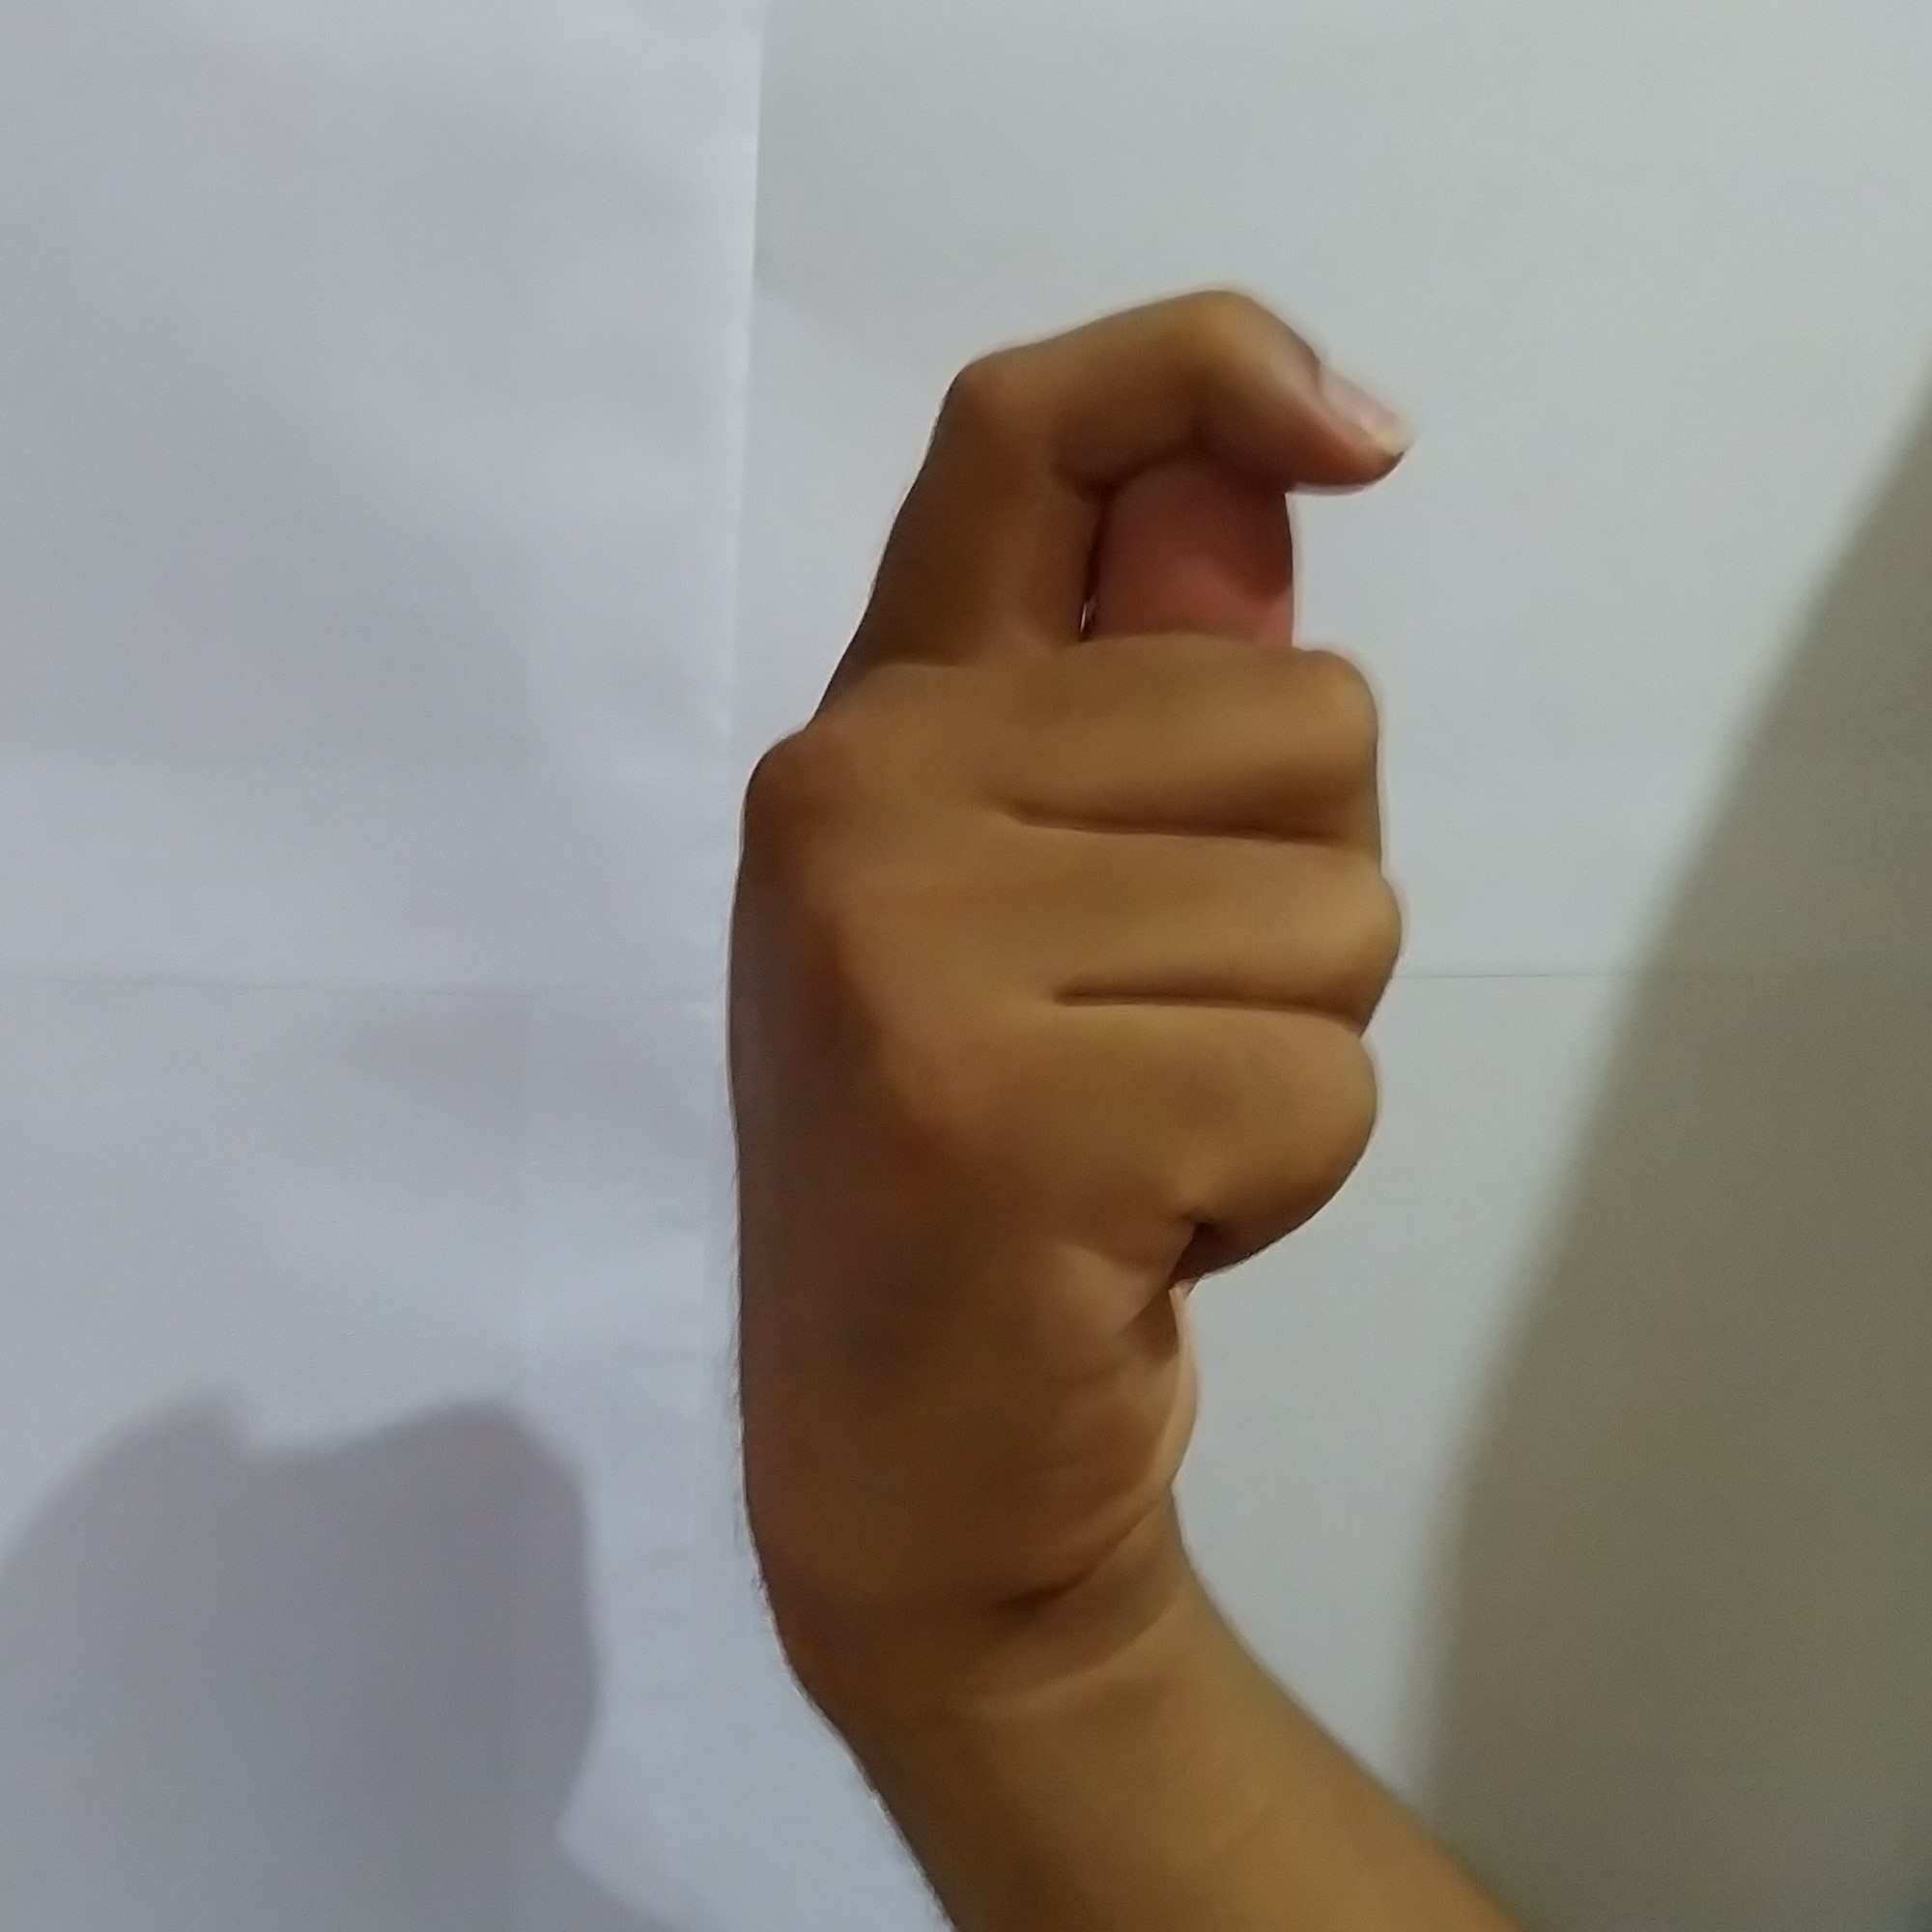T: (686, 251, 1442, 1603)
